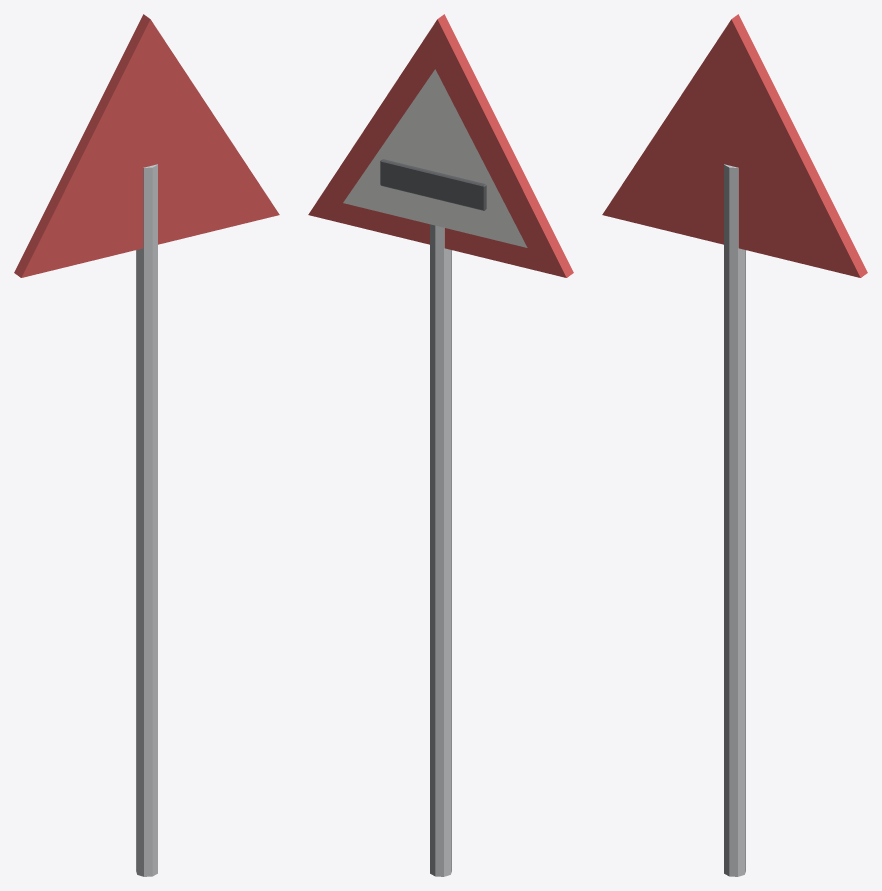
The model's file is Sultanbeyli_SpeedBumpSign.fbx.
The picture shows the model from 3 angles, left to right: view 1: azimuth 30°, elevation 25°; view 2: azimuth 150°, elevation 25°; view 3: azimuth 330°, elevation 25°; orthographic projection.
Visible parts, largest first — view 1: Sultanbeyli_SpeedBumpSign; view 2: Sultanbeyli_SpeedBumpSign; view 3: Sultanbeyli_SpeedBumpSign.
Part boxes in pixels (x1,y1,x2,y2): Sultanbeyli_SpeedBumpSign: [14, 14, 279, 876]; Sultanbeyli_SpeedBumpSign: [308, 14, 573, 876]; Sultanbeyli_SpeedBumpSign: [602, 14, 867, 876].
Size of the model in its own units: 0.84 by 2.66 by 0.0815.
